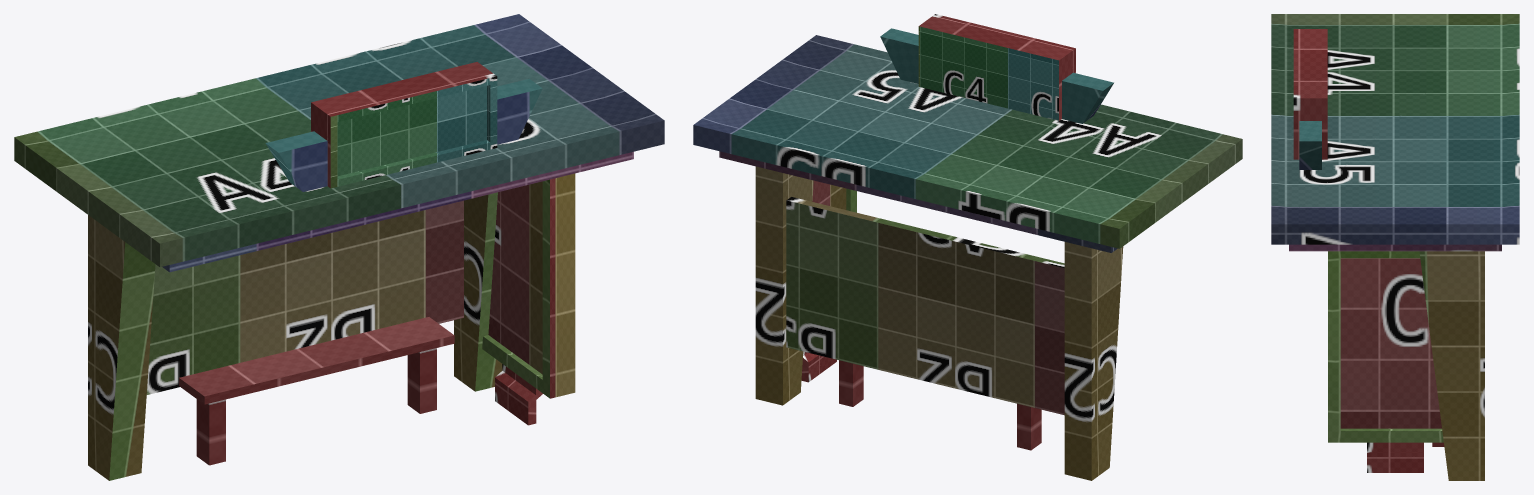
Rendered from ParadeDeOnibus.fbx.
The picture shows the model from 3 angles, left to right: view 1: azimuth 30°, elevation 25°; view 2: azimuth 150°, elevation 25°; view 3: azimuth 270°, elevation 25°; orthographic projection. The views are drawn at different scales.
Parts seen in each view (by area): view 1: ParadeDeOnibus; view 2: ParadeDeOnibus; view 3: ParadeDeOnibus.
Boxes of the visible parts, <box> form: ParadeDeOnibus: <box>14,14,664,480</box>; ParadeDeOnibus: <box>693,14,1242,480</box>; ParadeDeOnibus: <box>1271,14,1519,480</box>.
Bounding box in the file's own units: 607 × 458 × 303.
